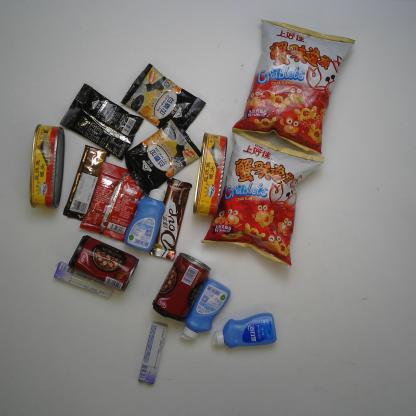Candy: (53, 261, 117, 298), (136, 320, 167, 385)
Canned Food: (68, 235, 141, 293), (153, 252, 212, 322), (191, 130, 230, 218), (28, 123, 66, 211)
Chocolate: (62, 144, 111, 223), (148, 176, 193, 262)
Instant Drink: (119, 62, 206, 140), (122, 116, 204, 197), (60, 82, 145, 160), (78, 162, 149, 242)
Personal Hygiene: (174, 276, 232, 342), (122, 187, 167, 253), (211, 311, 278, 349)
Puffed Food: (196, 125, 327, 269), (232, 17, 357, 157)
